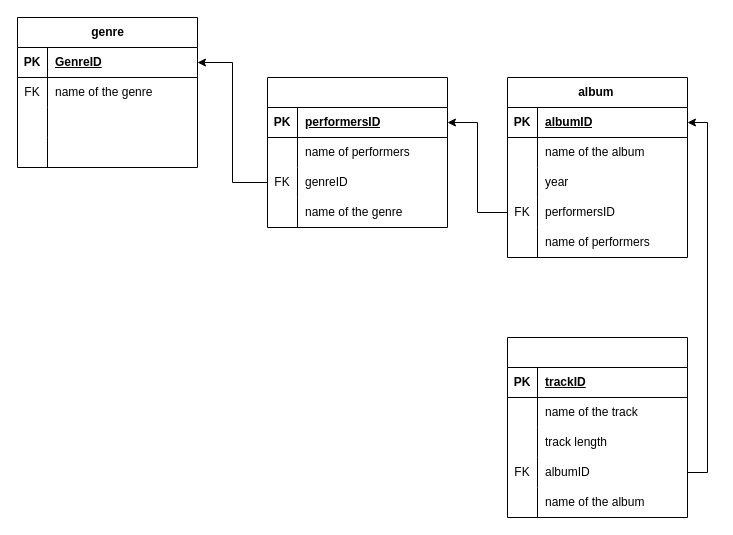
Some shapes in this 733 by 535 pixel diagram are drawn without their labels. Here are the shapes that lost their labels. From the top down, the box of each, then its label:
(266, 76, 448, 228): list of performers
(506, 336, 688, 518): track list
